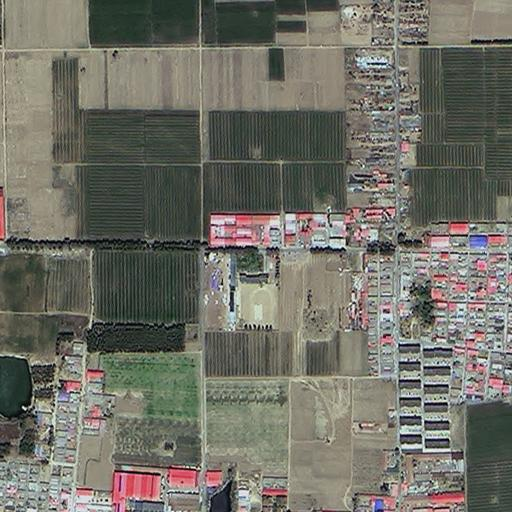school: (232, 246, 278, 331)
